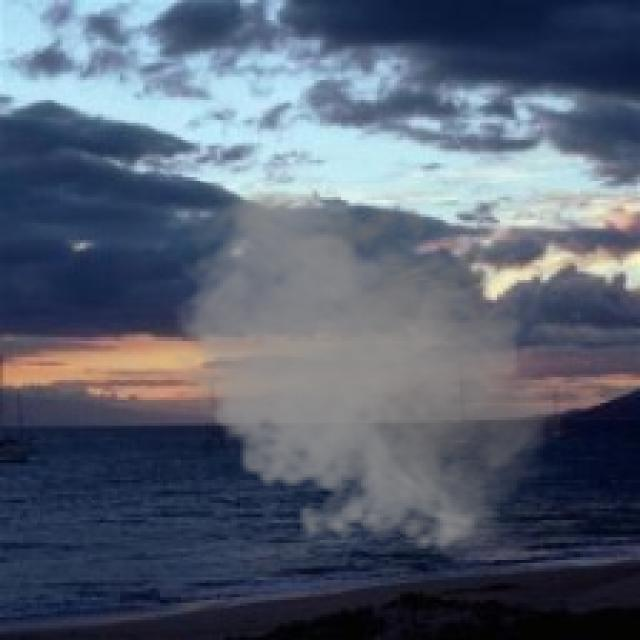smoke: (163, 183, 577, 563)
